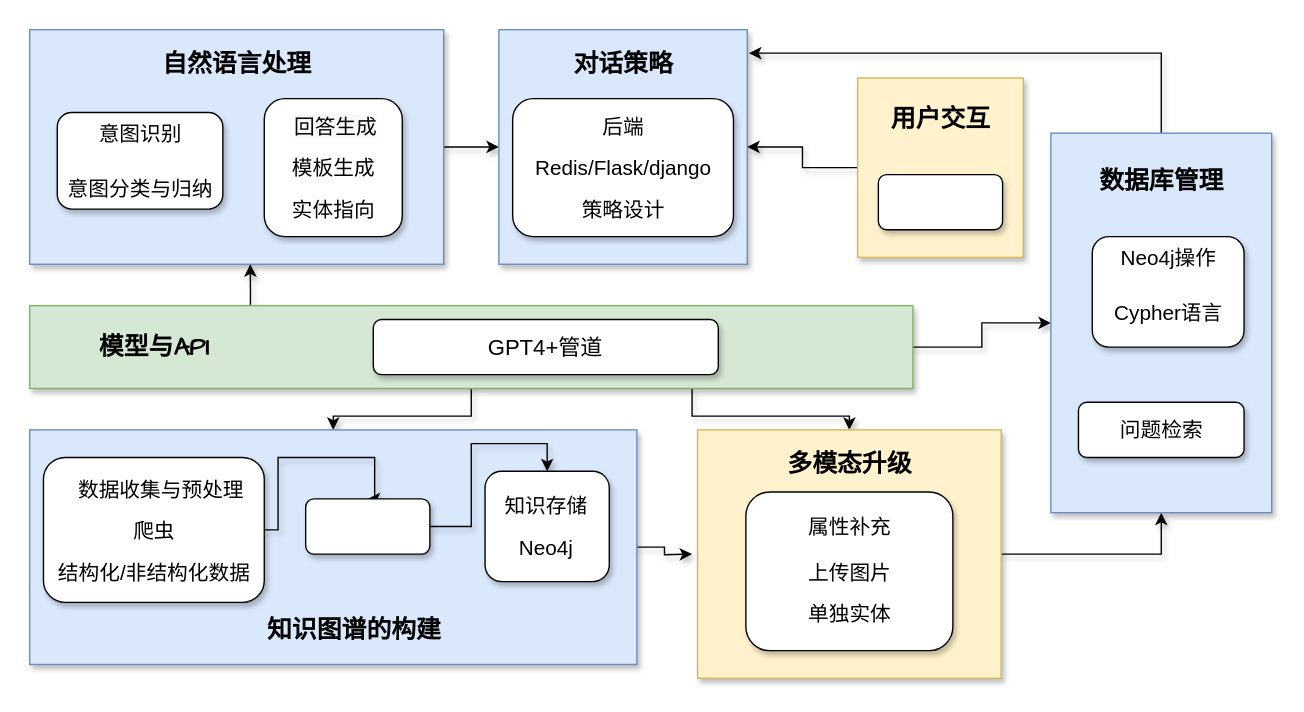
The diagram is 1304 pixels wide and 712 high, and some of its shapes have lost their labels. The shapes that lost their labels are listed below. From the top down, each one's centre as x and y in pixels, then its label:
At pixel 941 203: "网页/小程序".
At pixel 368 528: "知识抽取".
